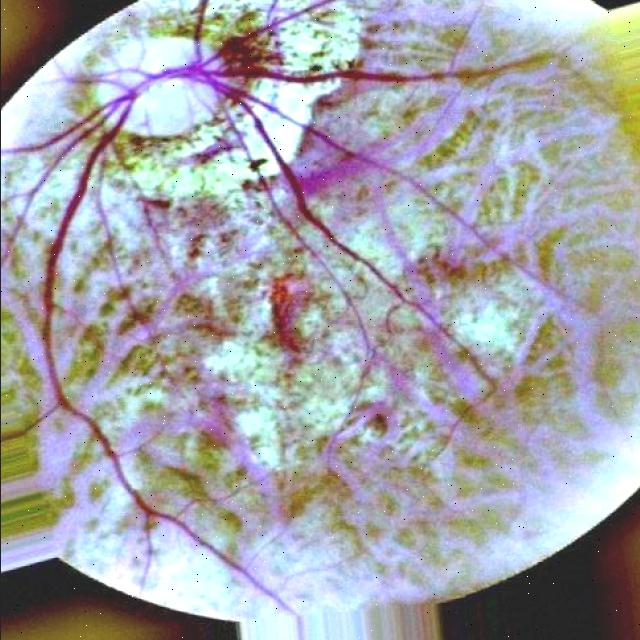Macula: (260, 270, 319, 366)
Nerves: (214, 61, 527, 298), (0, 74, 169, 437), (163, 0, 343, 74)
Optic Disk: (72, 10, 260, 152)
